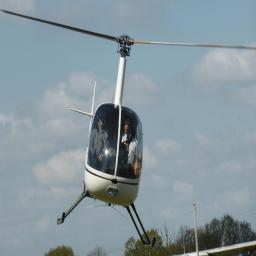helicopter: (1, 6, 256, 239)
